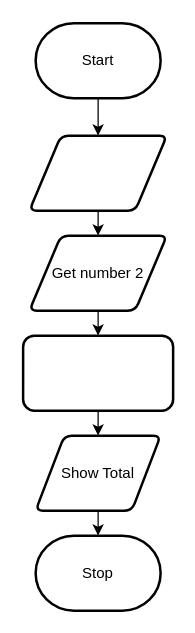
The diagram is 195 pixels wide and 633 high, and some of its shapes have lost their labels. Each missing label, with the centre of its shape:
"Calculate 2 Numbers First + Second = Total" goes at point 97,372.
"Get number 1" goes at point 98,172.
